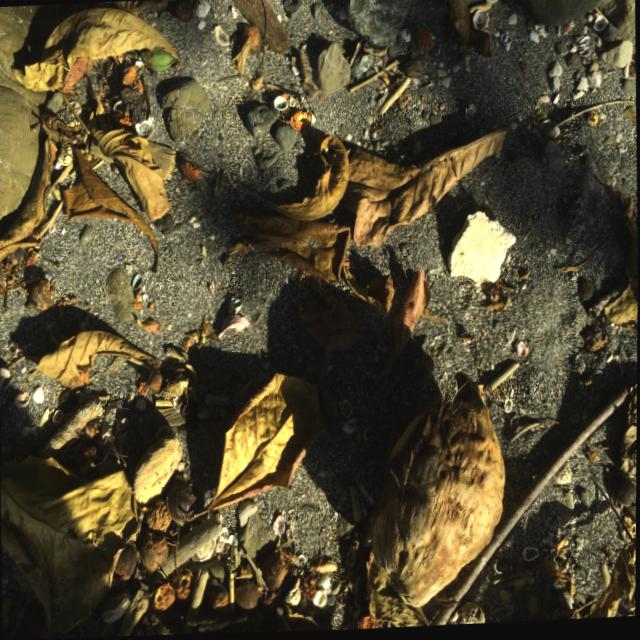Plastic: (438, 201, 527, 297)
